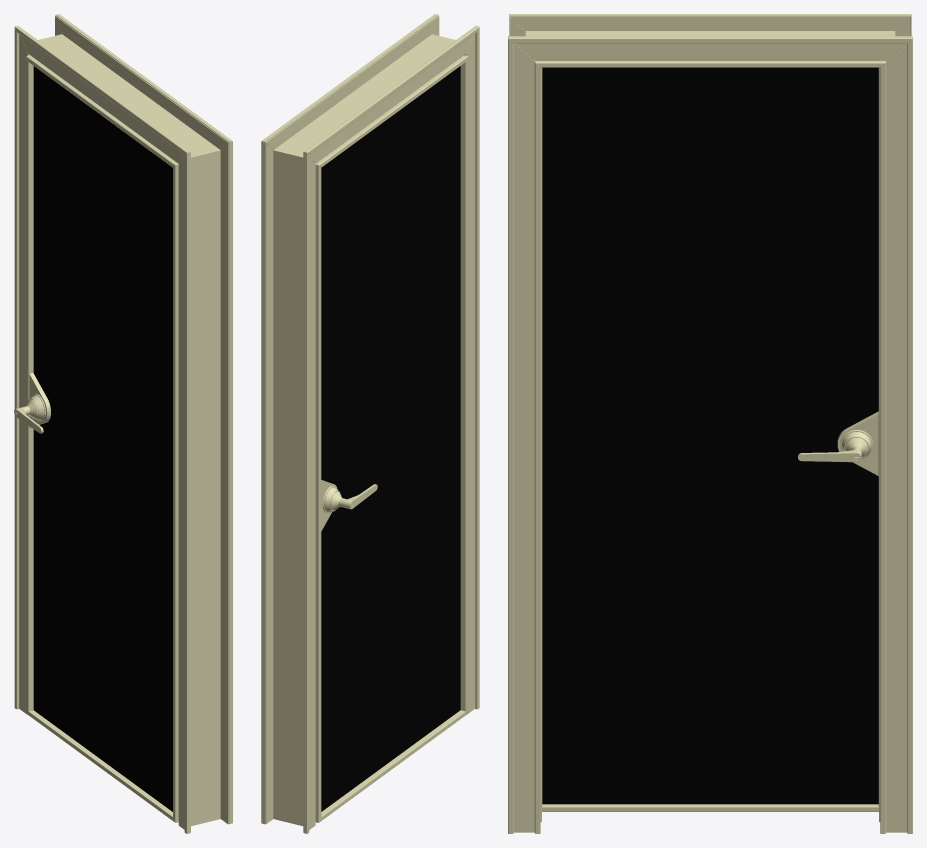
The model's file is door.fbx.
3 views of the same model, side by side, from view 1: azimuth 30°, elevation 25°; view 2: azimuth 150°, elevation 25°; view 3: azimuth 270°, elevation 25° (orthographic). The views are drawn at different scales.
Visible parts, largest first — view 1: door006, Rectangle0; view 2: door006, Rectangle0; view 3: door006, Rectangle0.
Boxes of the visible parts, <box> form: door006: <box>14,55,178,822</box>; Rectangle0: <box>14,14,232,833</box>; door006: <box>315,55,467,822</box>; Rectangle0: <box>261,14,479,833</box>; door006: <box>542,67,878,811</box>; Rectangle0: <box>508,14,912,833</box>.
Bounding box in the file's own units: 87.73 × 850 × 392.
